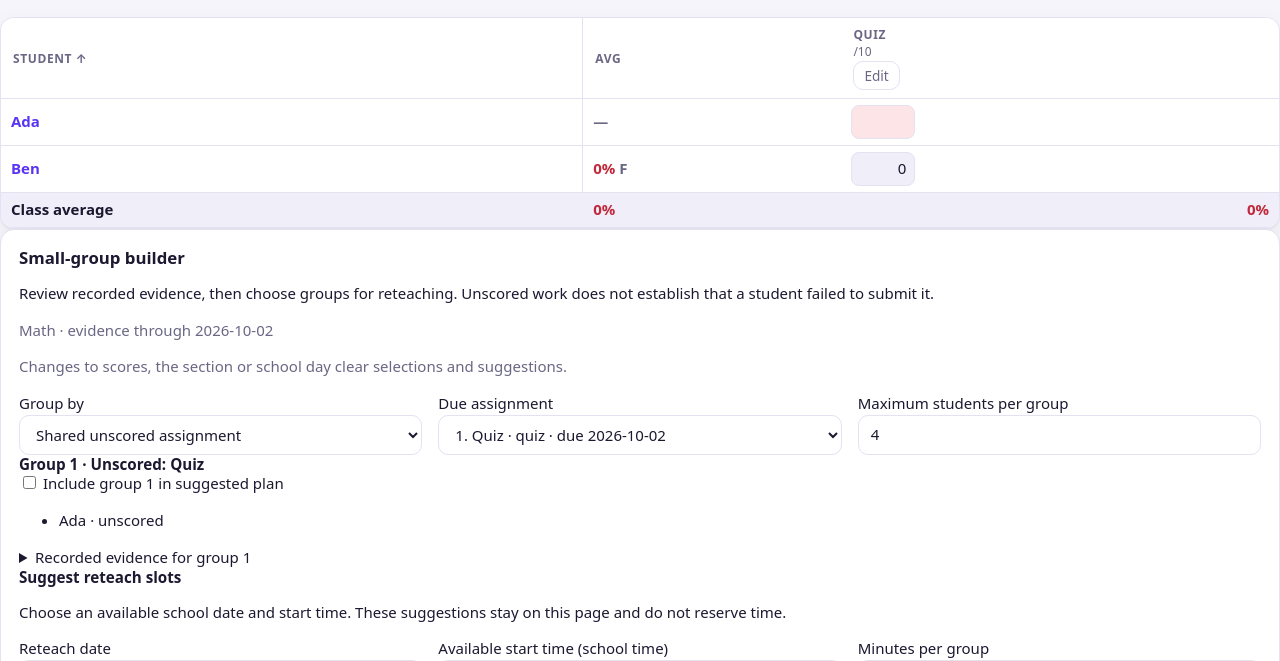
Test: clears a reviewed plan during the actual optimistic score mutation (success)
Click the checkbox labelled "Include group 1 in suggested plan".
click(30, 483)  # box [23, 476, 36, 489]
(page scrolled)
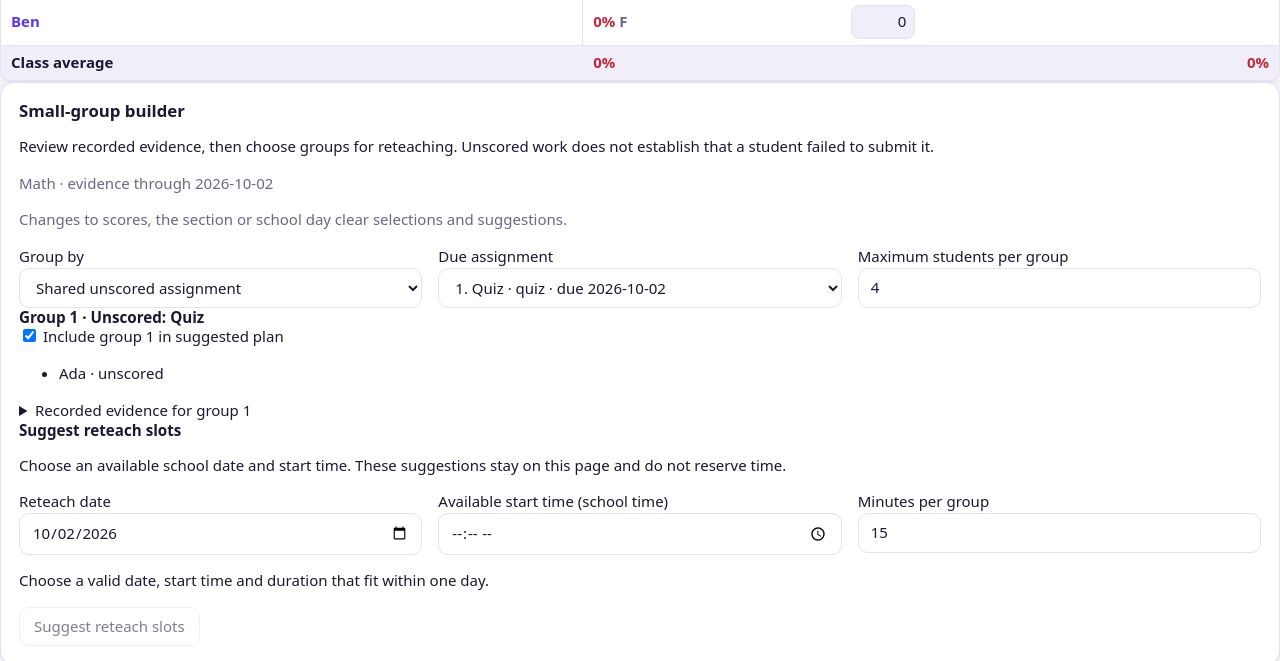
Type "09:00" into the time field labelled "Available start time (school time)".
click(640, 534); type("09:00")  # box [438, 513, 842, 555]
(page scrolled)
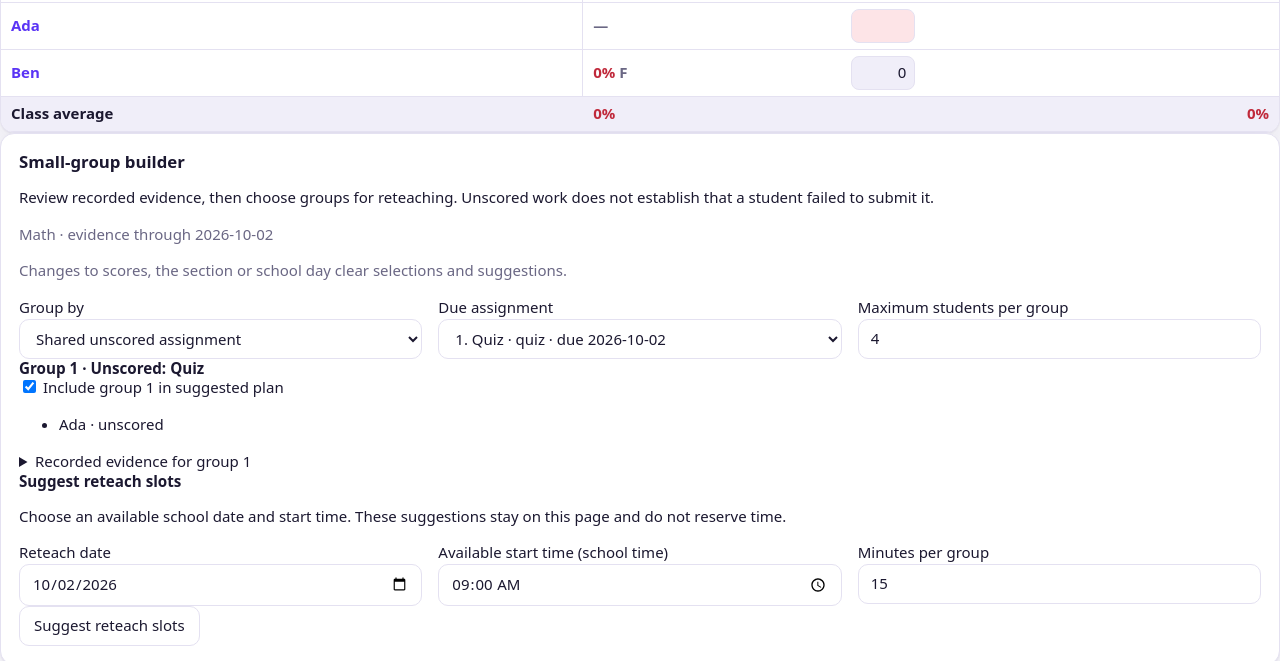
Click the button "Suggest reteach slots".
click(109, 626)  # box [19, 606, 200, 646]
(page scrolled)
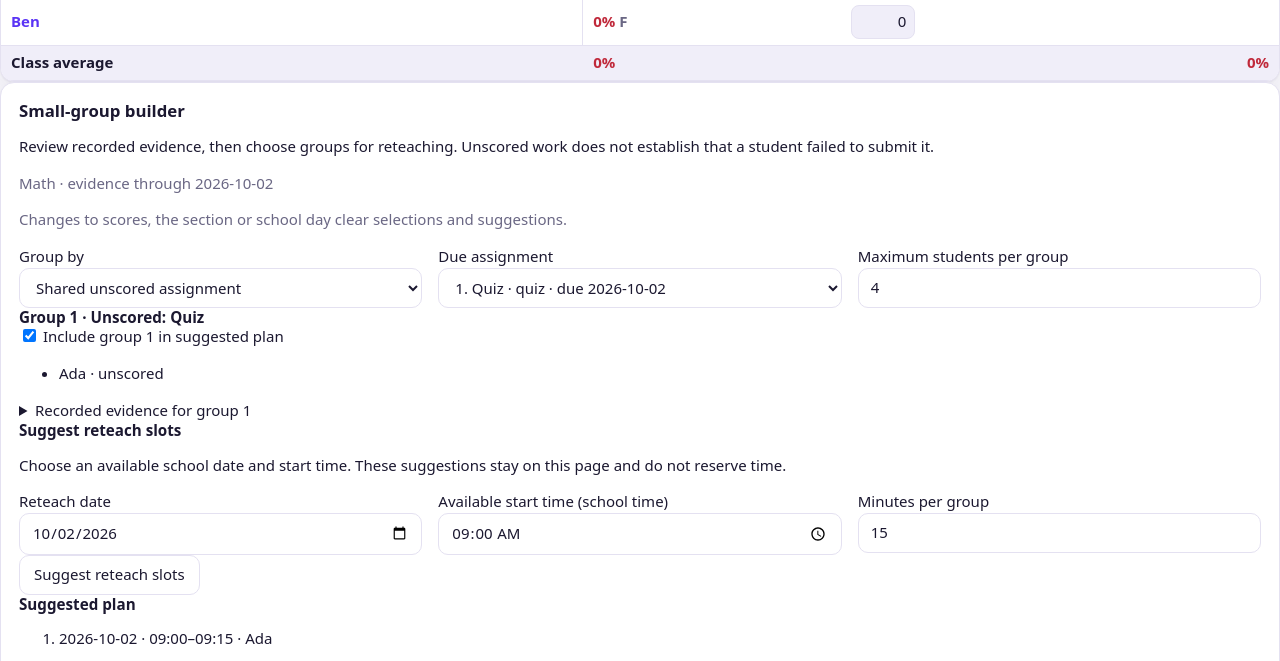
Replace the text in the field named "Ben, Quiz" with "5" at (883, 22), box [851, 5, 915, 39]
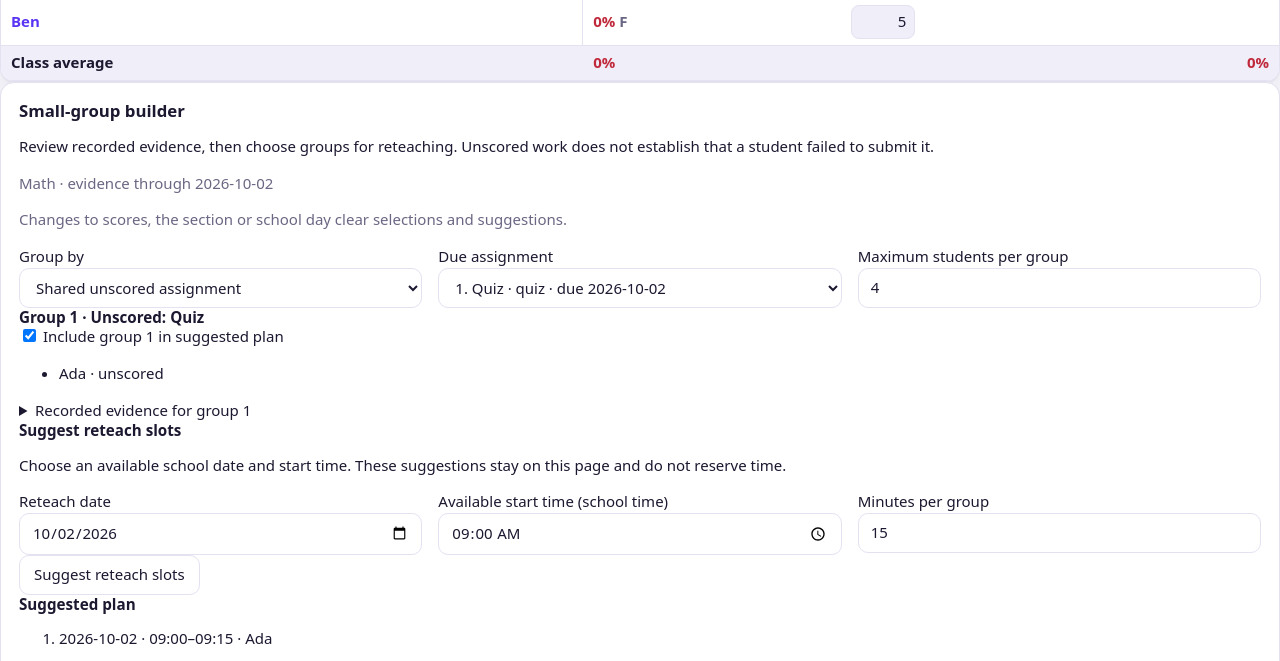
Leave the field named "Ben, Quiz", box [851, 5, 915, 39]
(page scrolled)
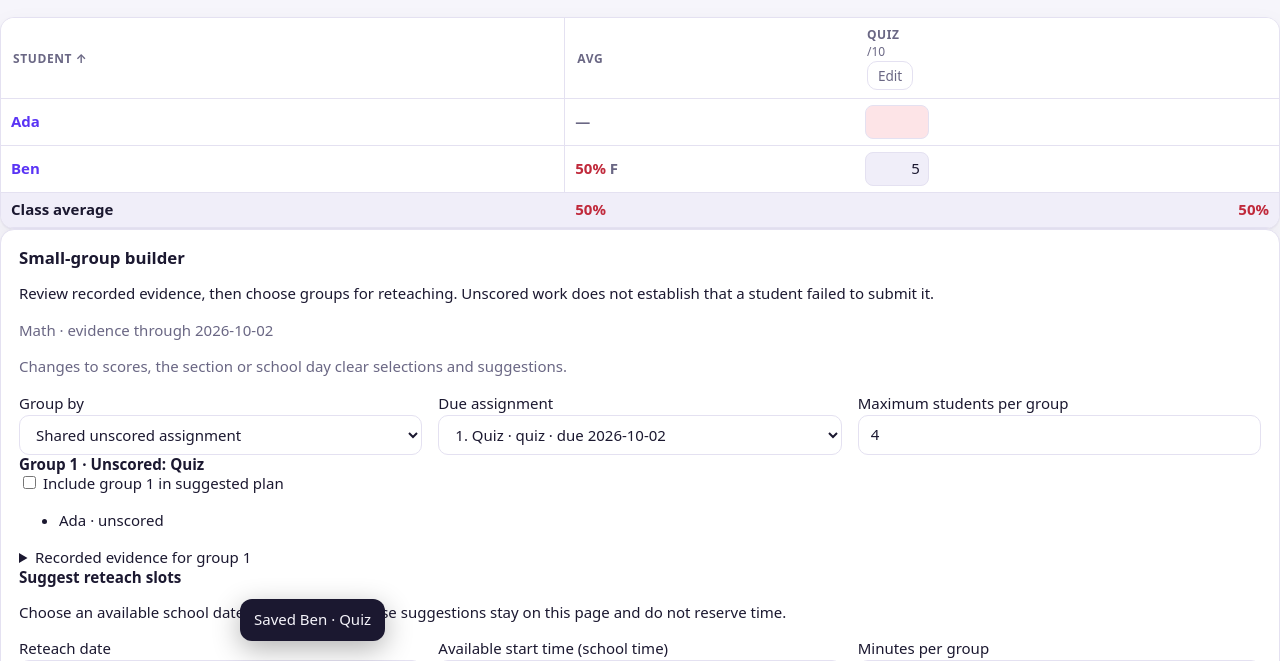
Now the checkbox is not checked, box [23, 476, 36, 489]
